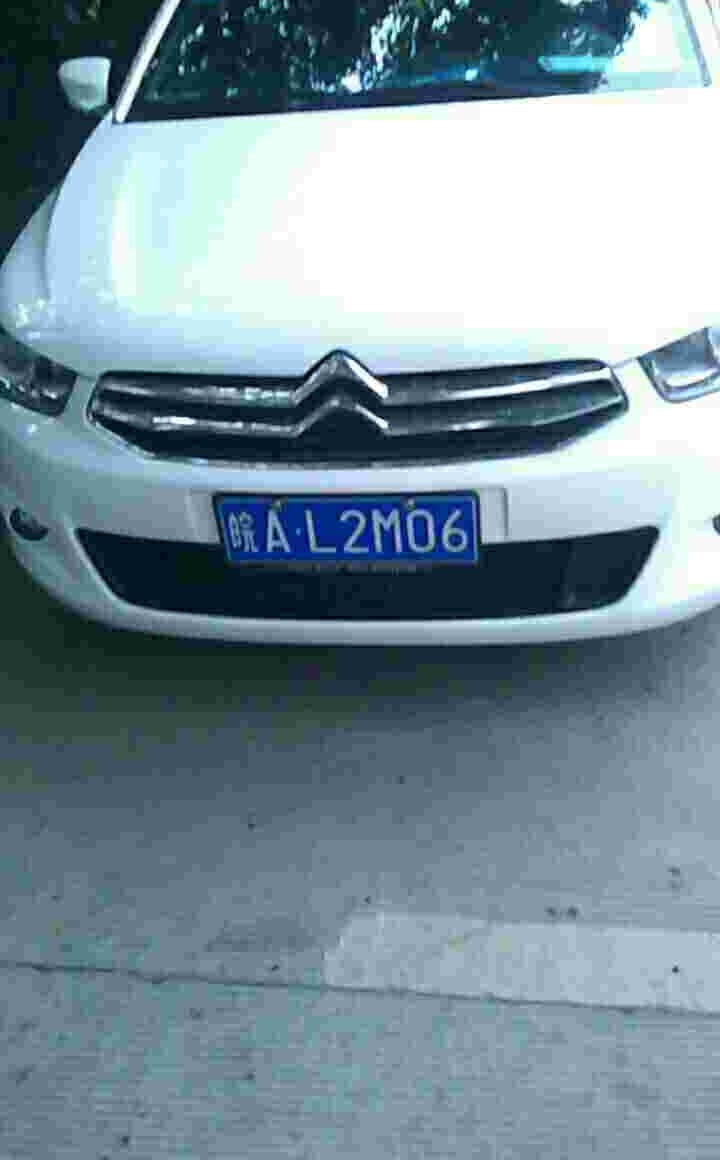car: (205, 500, 491, 570)
